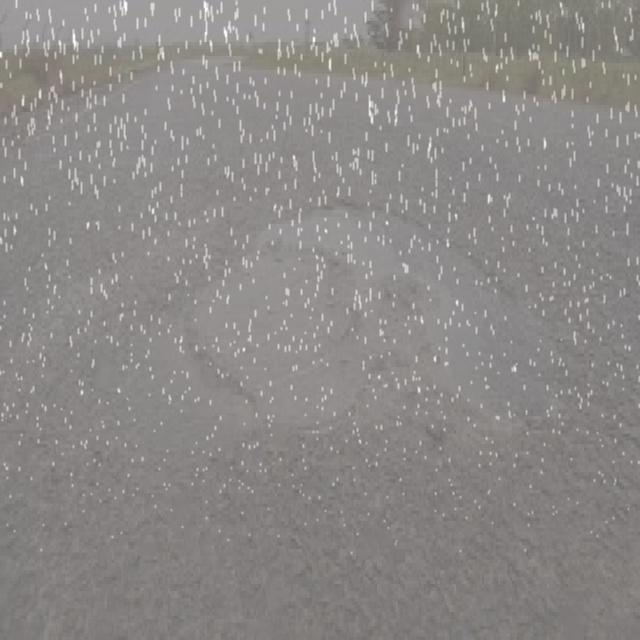Pothole: (142, 197, 552, 484)
